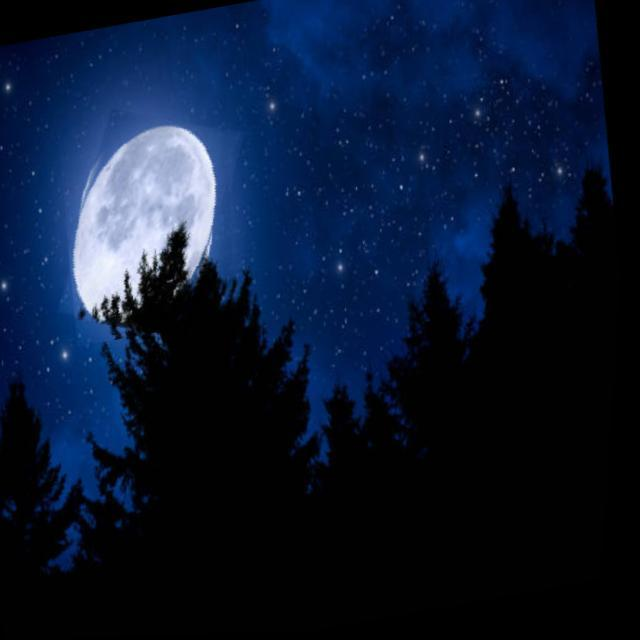moon: (48, 96, 262, 348)
